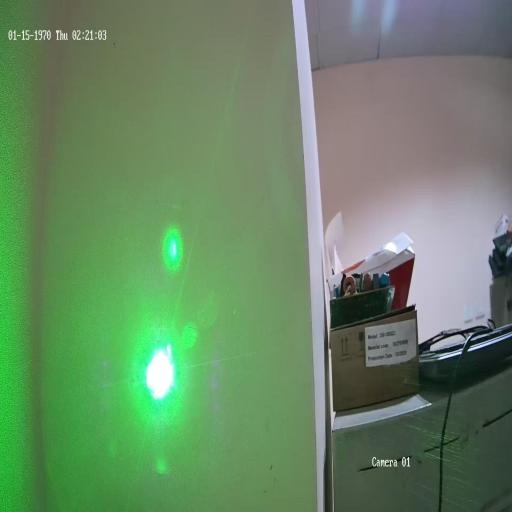laser: (140, 334, 178, 406)
